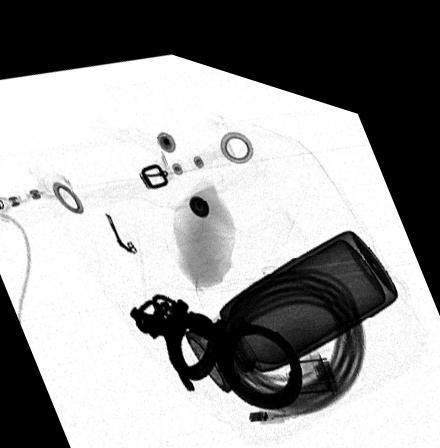HandCuffs: (130, 283, 304, 393)
